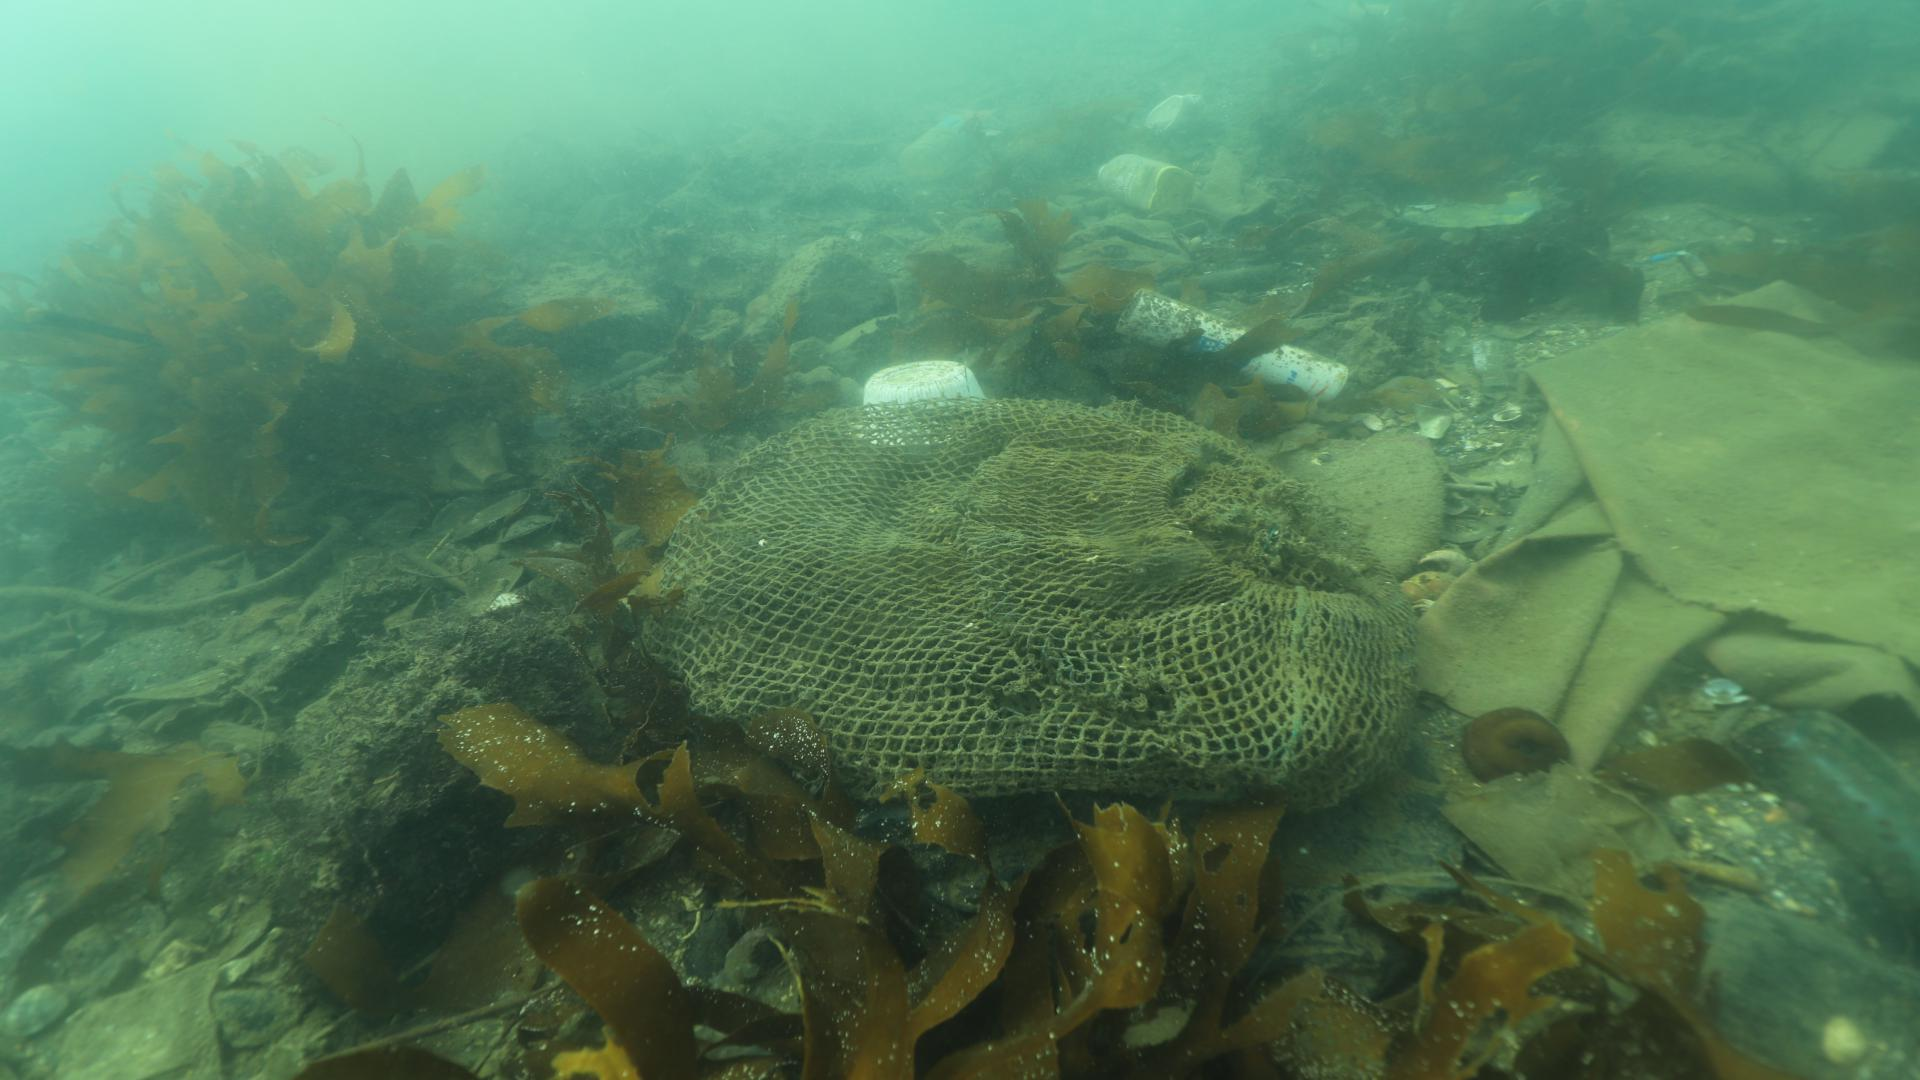fish net: (633, 396, 1428, 806)
